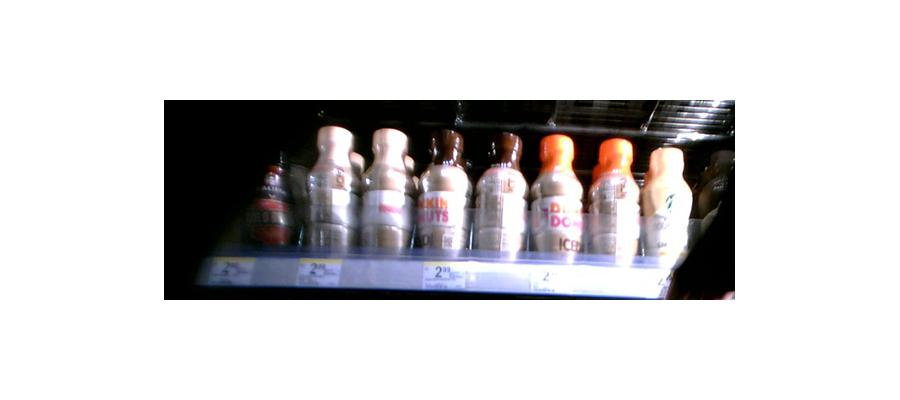bottle: (301, 120, 356, 254), (583, 134, 640, 262), (415, 122, 467, 261), (471, 131, 526, 261), (358, 125, 412, 257), (527, 133, 580, 262), (641, 146, 688, 273), (247, 134, 296, 248)
